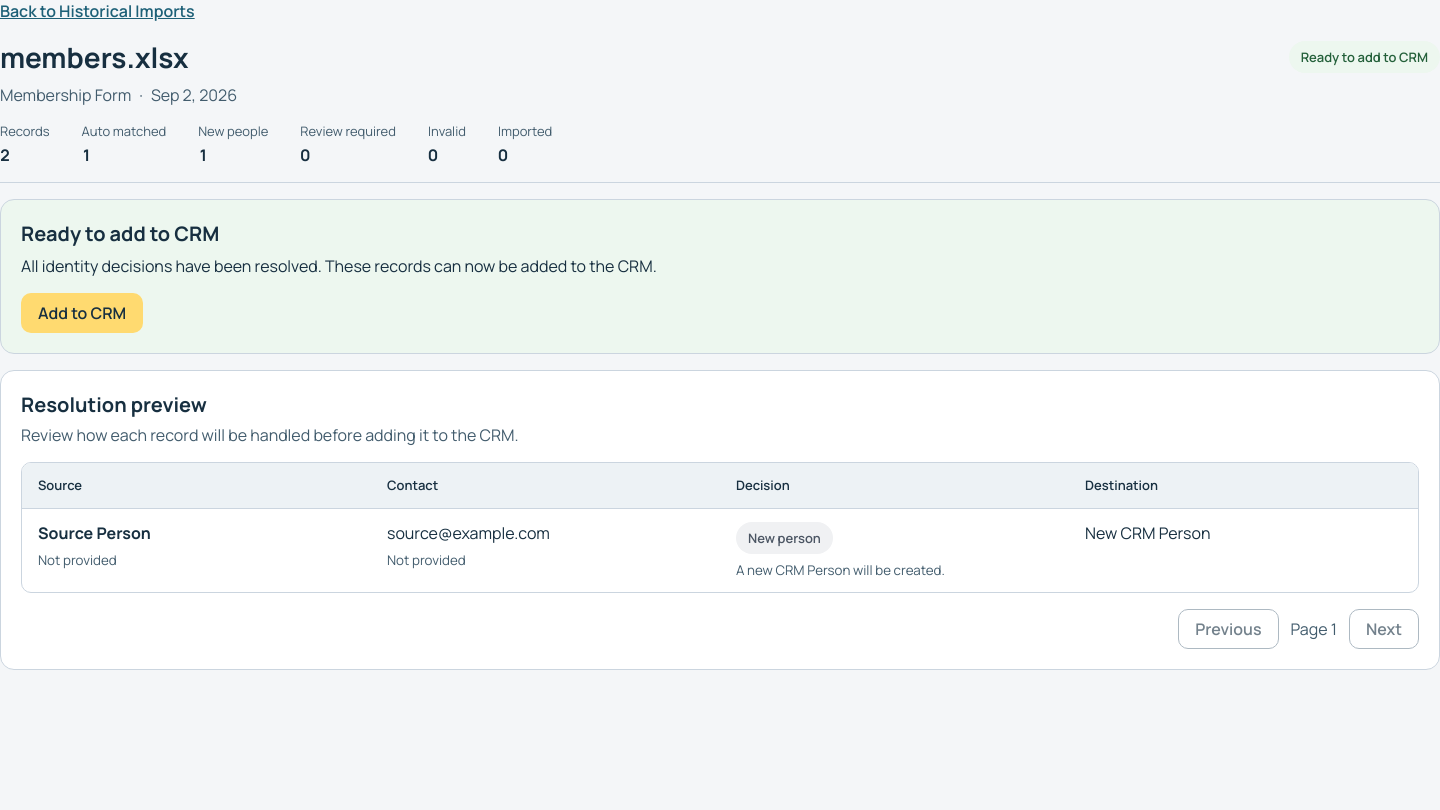
Test case: ImportBatchPageComponent › keeps the batch unimported locally and refreshes it after a safe conflict
This screenshot has width=1440, height=810.
Click the button "Add to CRM".
click(82, 313)  # box [21,293,143,333]
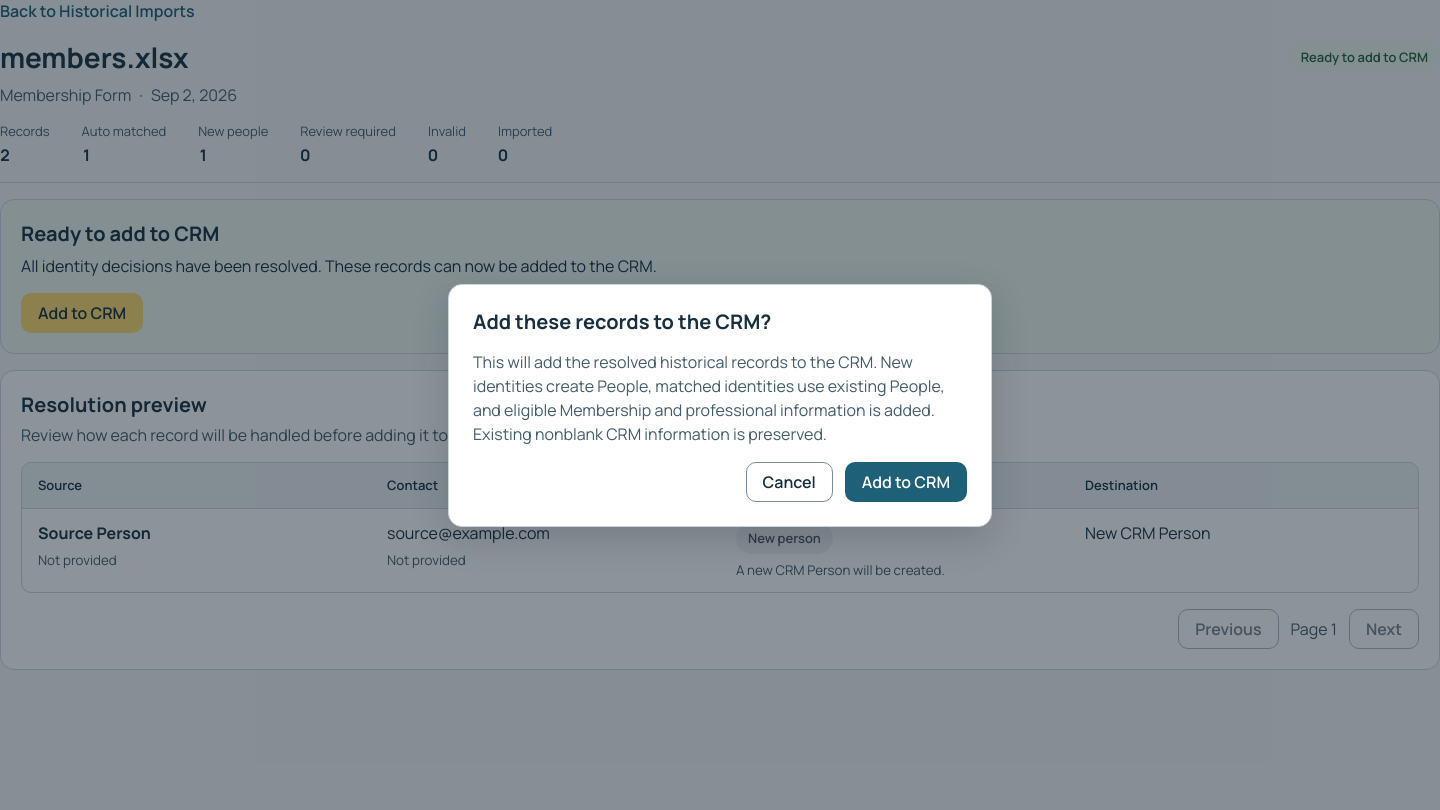
Click the button "Add to CRM".
click(906, 482)  # box [845,462,967,502]
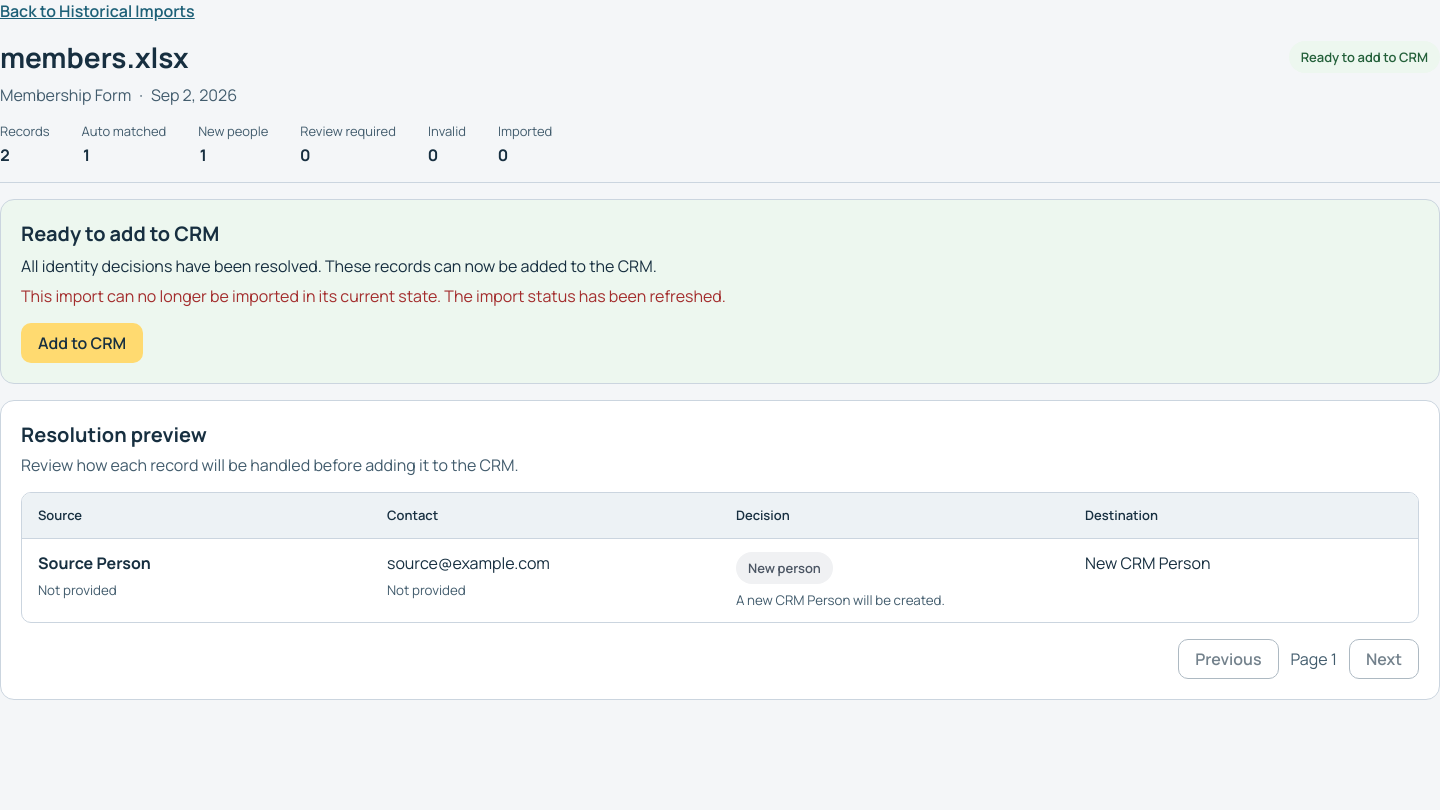
Expected: the text "can no longer be imported" is shown, [21,285,726,307]
